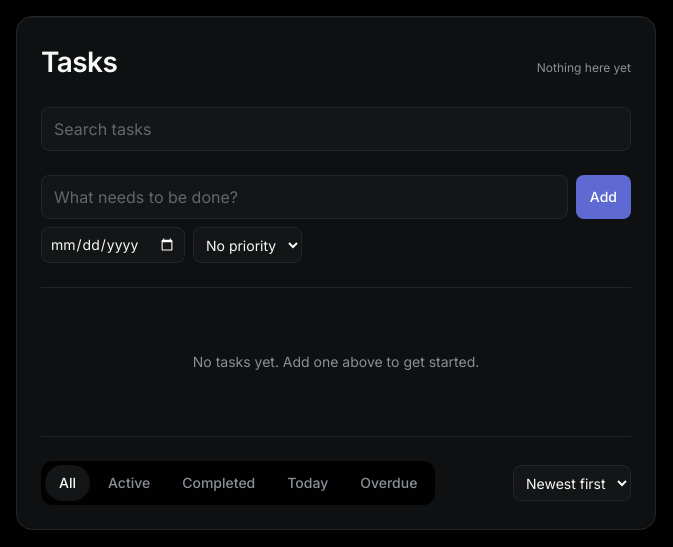
Test: todo app › marks a task as done and back again
The image size is (673, 547).
Step 1. Type "Write tests" into the field named "New task" → (304, 197), box [41,175,568,219]
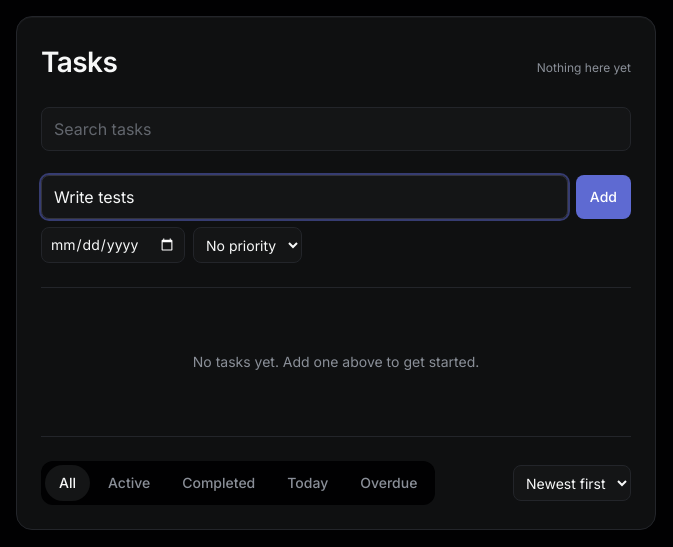
Step 2. Click the button "Add" → (603, 197), box [576,175,631,219]
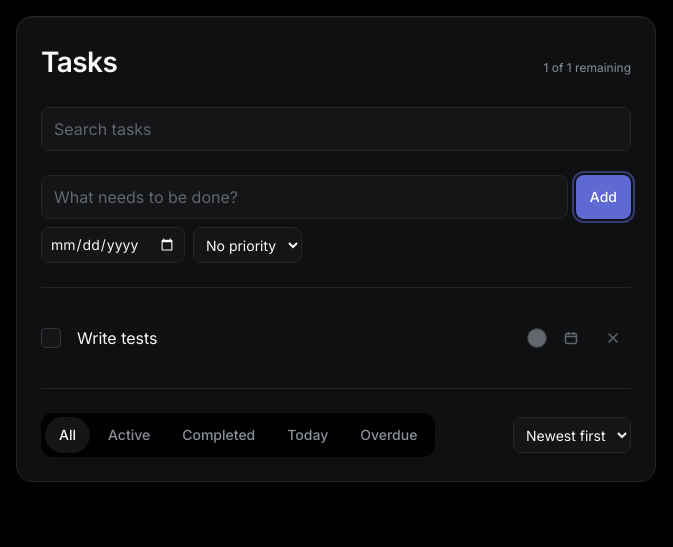
Step 3. Click the checkbox → (51, 338), box [41,328,61,348]
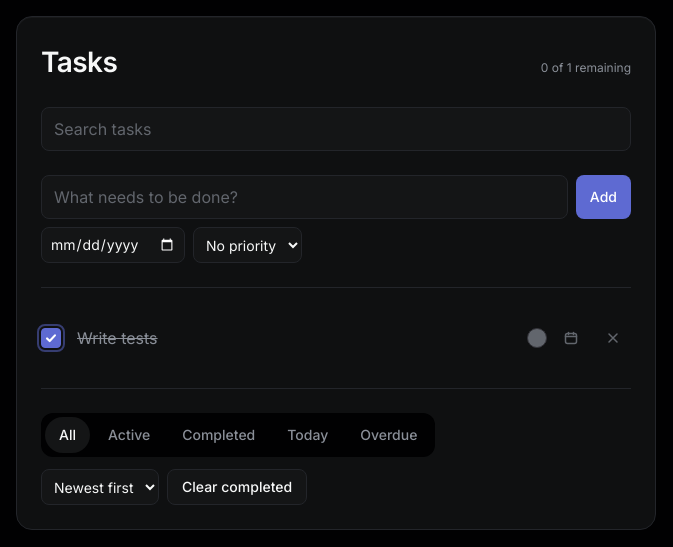
Expected: the text "0 of 1 remaining" is shown, [541,60,631,76]
Step 4. Click the checkbox → (51, 338), box [41,328,61,348]
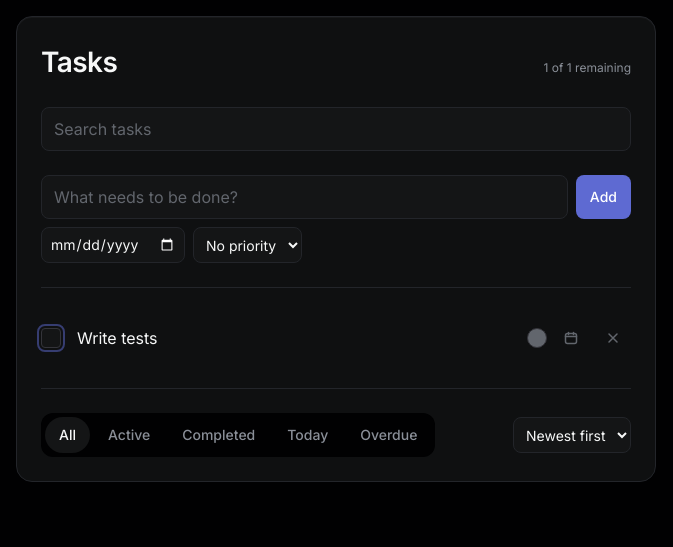
Expected: the text "1 of 1 remaining" is shown, [544,60,631,76]
